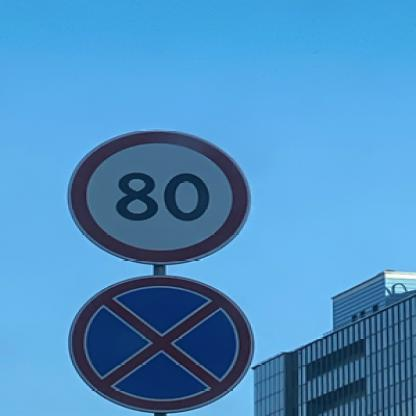speedlimit: (63, 129, 250, 263)
